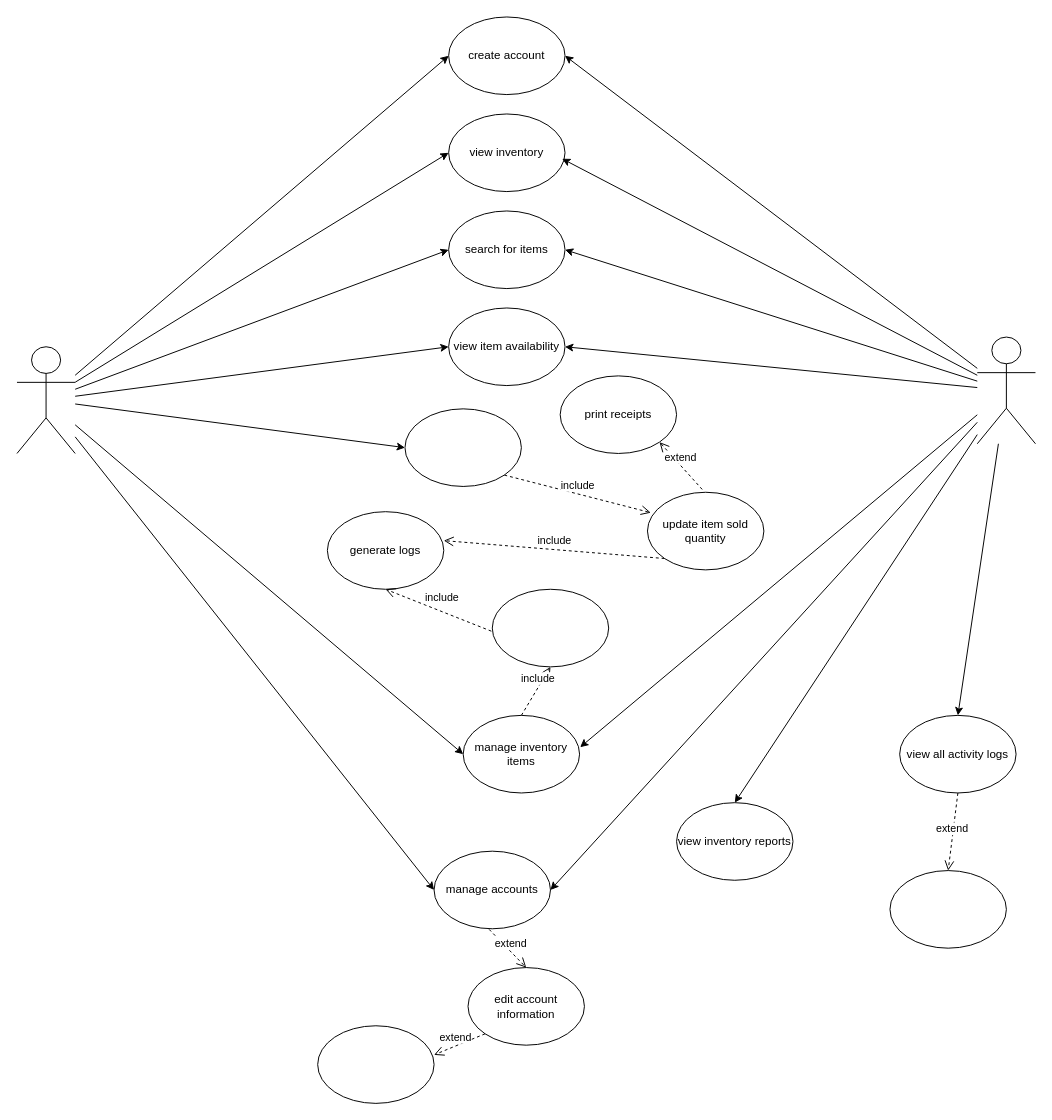
The diagram is 1052 pixels wide and 1120 high, and some of its shapes have lost their labels. The centre of each missing label's shape, as x and y in pixels:
"add new items, edit existing items, delete items" goes at point 550,627.
"admin" goes at point 1005,390.
"print logs" goes at point 947,909.
"sell items" goes at point 462,447.
"staff" goes at point 45,399.
"update account status" goes at point 375,1064.
